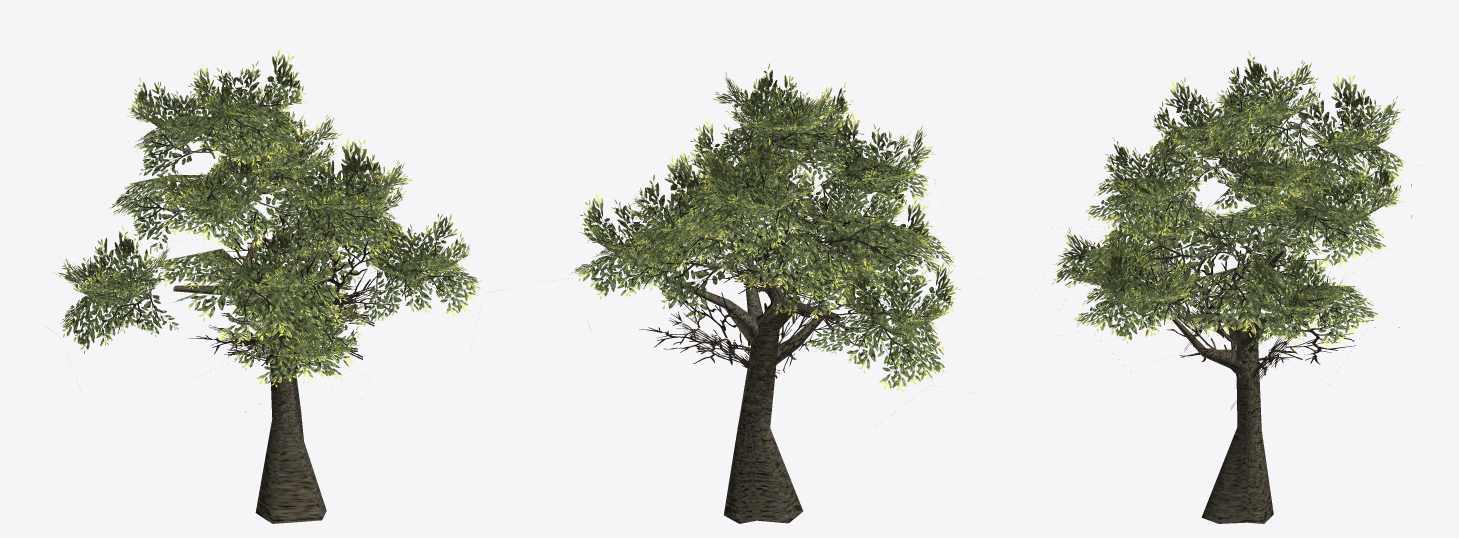
Rendered from flora_tree_oak_holly_v3.glb.
3 renders of one model, left to right at view 1: azimuth 30°, elevation 25°; view 2: azimuth 150°, elevation 25°; view 3: azimuth 270°, elevation 25°, orthographic. The views are drawn at different scales.
Parts seen in each view (by area): view 1: flora_tree_oak_holly_v3_part0, flora_tree_oak_holly_v3_part1; view 2: flora_tree_oak_holly_v3_part0, flora_tree_oak_holly_v3_part1; view 3: flora_tree_oak_holly_v3_part0, flora_tree_oak_holly_v3_part1.
Boxes of the visible parts, x1=… form: flora_tree_oak_holly_v3_part0: x1=53, y1=49, x2=482, y2=523; flora_tree_oak_holly_v3_part1: x1=189, y1=202, x2=399, y2=368; flora_tree_oak_holly_v3_part0: x1=570, y1=63, x2=961, y2=523; flora_tree_oak_holly_v3_part1: x1=639, y1=163, x2=887, y2=399; flora_tree_oak_holly_v3_part0: x1=1051, y1=51, x2=1411, y2=523; flora_tree_oak_holly_v3_part1: x1=1101, y1=212, x2=1373, y2=409.
Bounding box in the file's own units: 24.75 × 27.4 × 22.93.
Materials: 2 (2 with a texture image).
